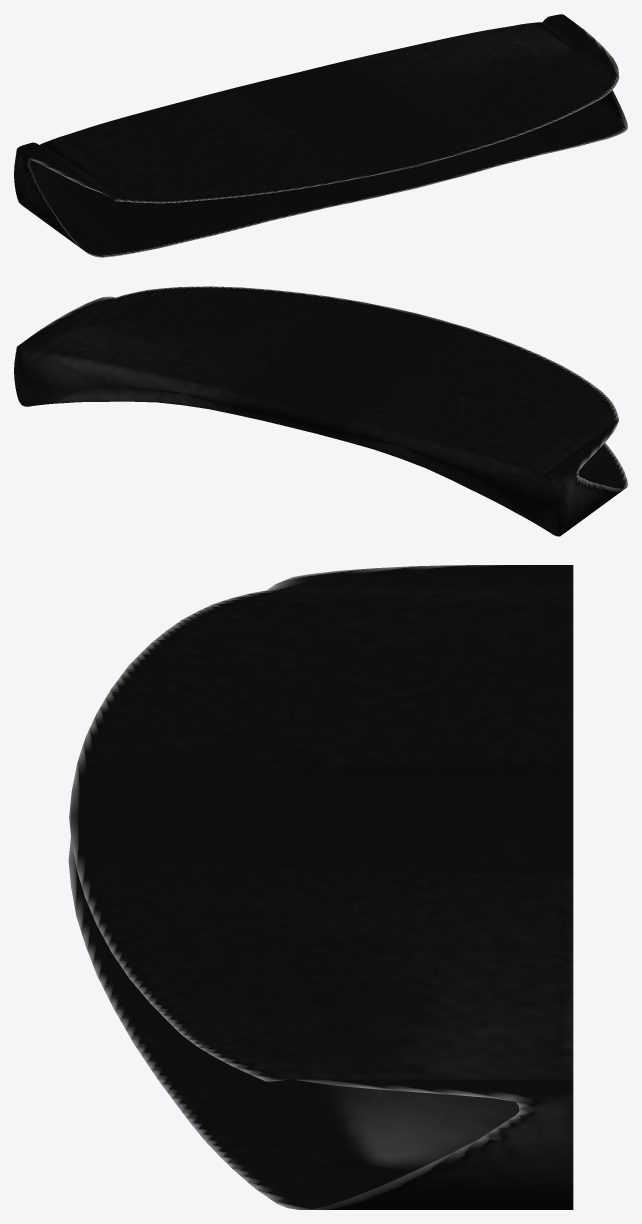
File: TL_housing.glb
The picture shows the model from 3 angles, top to bottom: view 1: azimuth 30°, elevation 25°; view 2: azimuth 150°, elevation 25°; view 3: azimuth 270°, elevation 25°; orthographic projection. The views are drawn at different scales.
Parts seen in each view (by area): view 1: TL_housing; view 2: TL_housing; view 3: TL_housing.
Boxes of the visible parts, <box> form: TL_housing: <box>14,14,627,257</box>; TL_housing: <box>14,286,627,536</box>; TL_housing: <box>68,565,573,1209</box>.
Size of the model in its own units: 1.51 by 0.171 by 0.595.
Materials: 1 (1 with a texture image).
